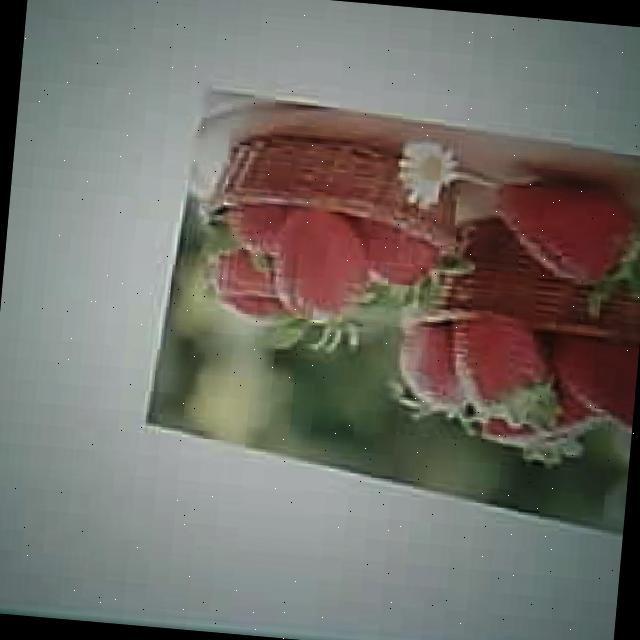strawberry: (491, 178, 639, 290)
